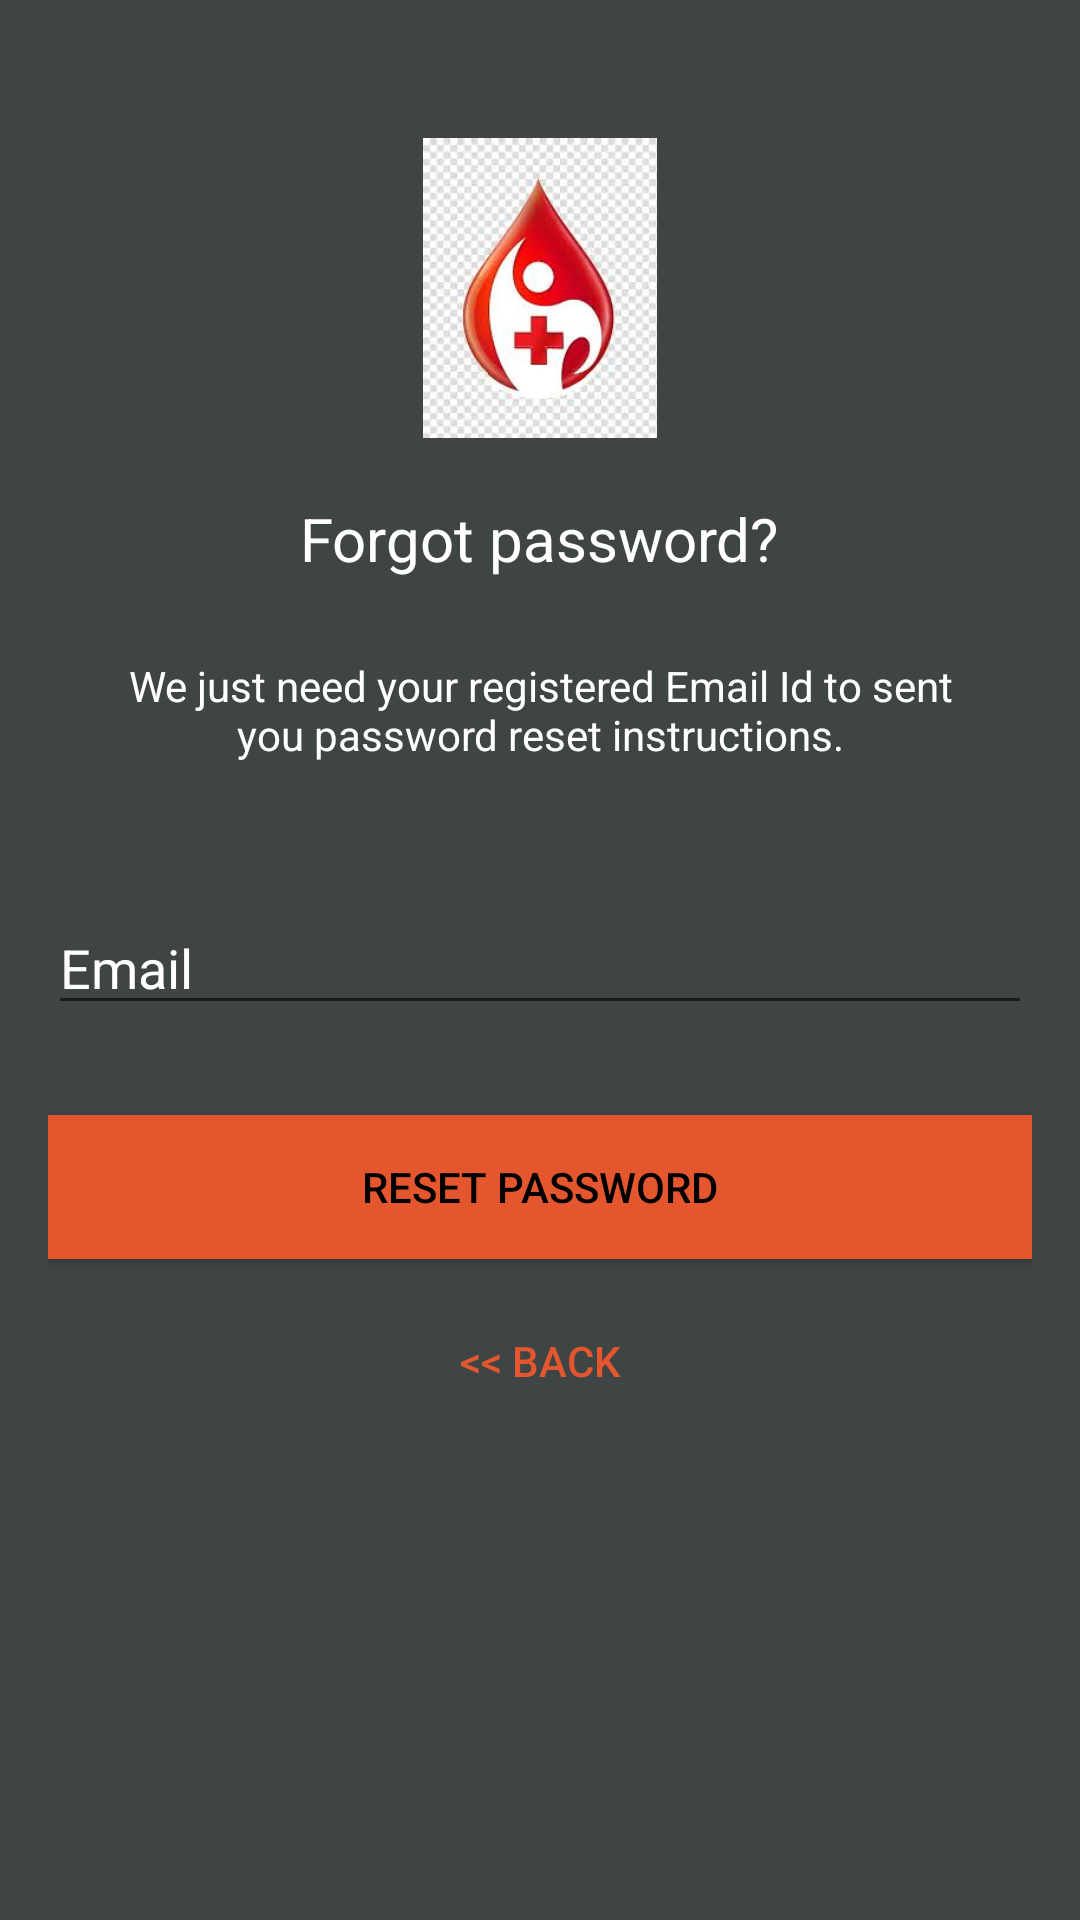

Named icons in this screenshot (1080*1920) and their bounding boxes, [x1=x1, y1=y1, x2=x2, y2=y2]:
appicon: [x1=423, y1=138, x2=657, y2=438]
